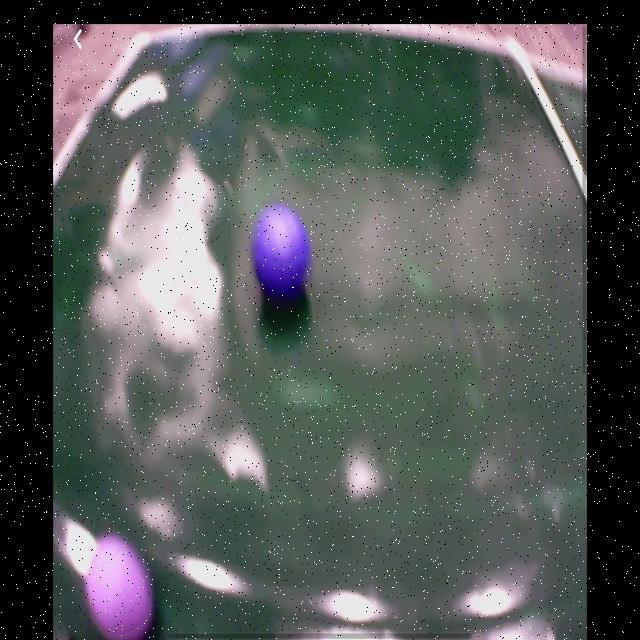ball: (84, 534, 155, 640), (251, 204, 311, 299)
